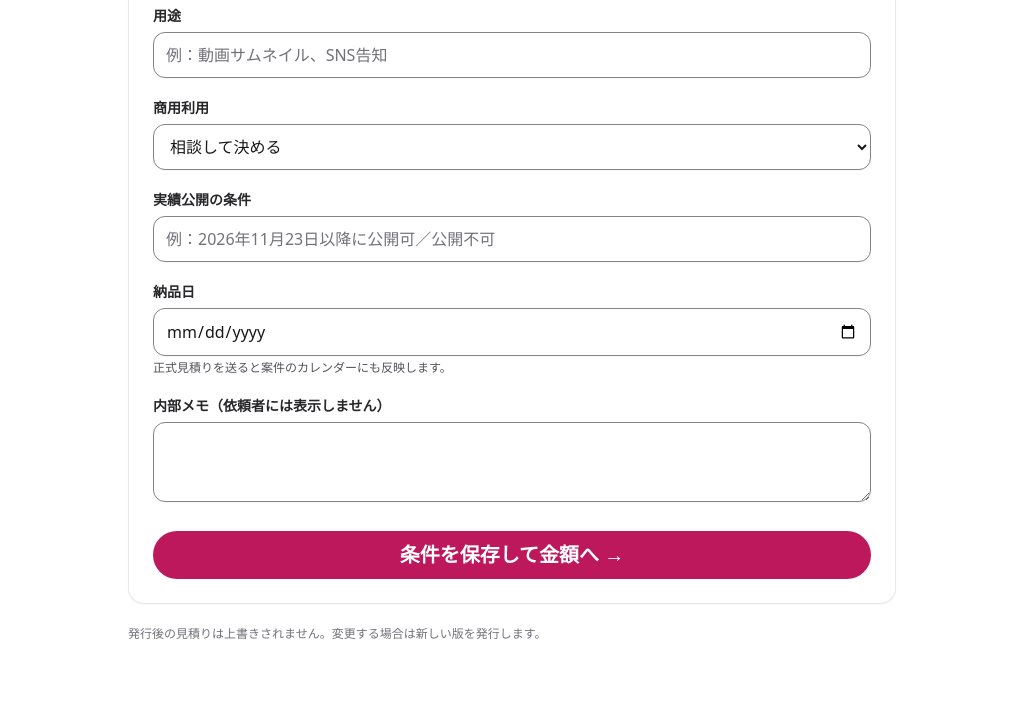
Test: EstimateJourney › keeps external requests on the conditions -> price -> review path without guessing their initial amount
(page scrolled)
Click the button "条件を保存して金額へ →" at (512, 555), box [153,531,871,579]
(page scrolled)
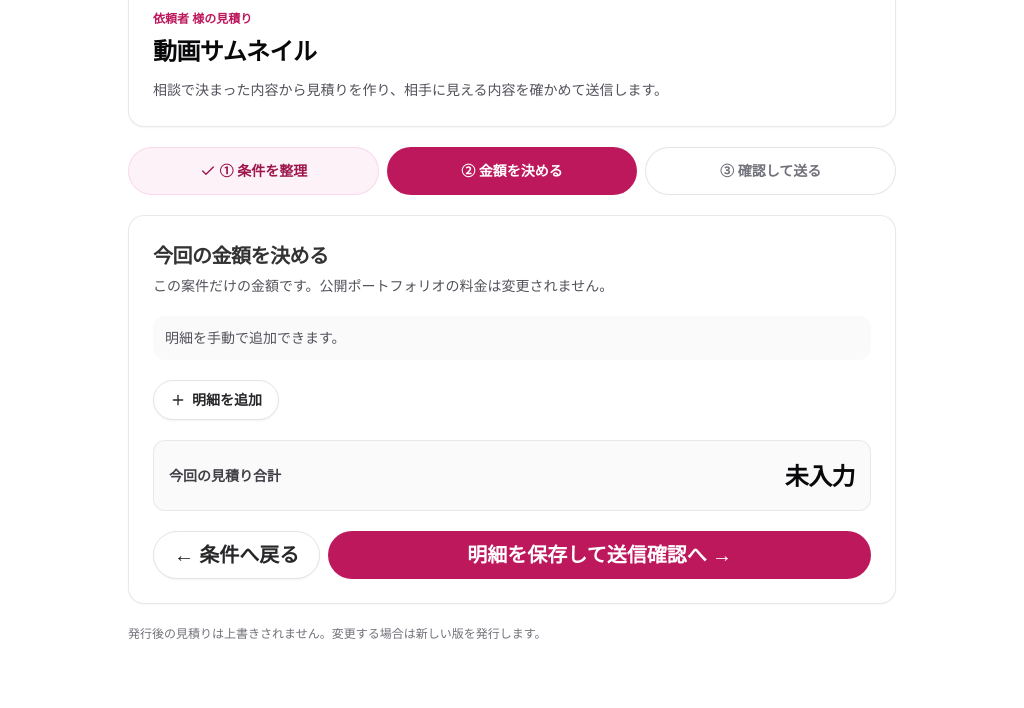
Expected: the heading "今回の金額を決める" is shown, [153,242,328,268]
Expected: the text "未入力" is shown, [785,456,855,495]
Click the button "明細を追加" at (216, 400), box [153,380,279,420]
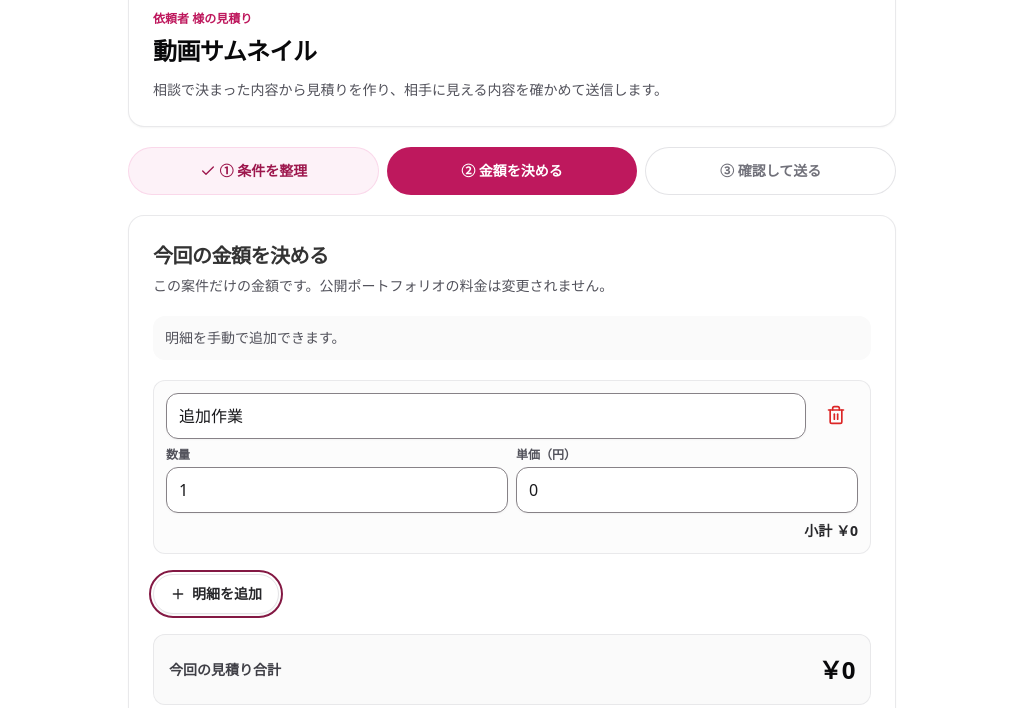
Replace the text in the number field labelled "単価（円）" with "3500" at (687, 490), box [516,467,858,513]
(page scrolled)
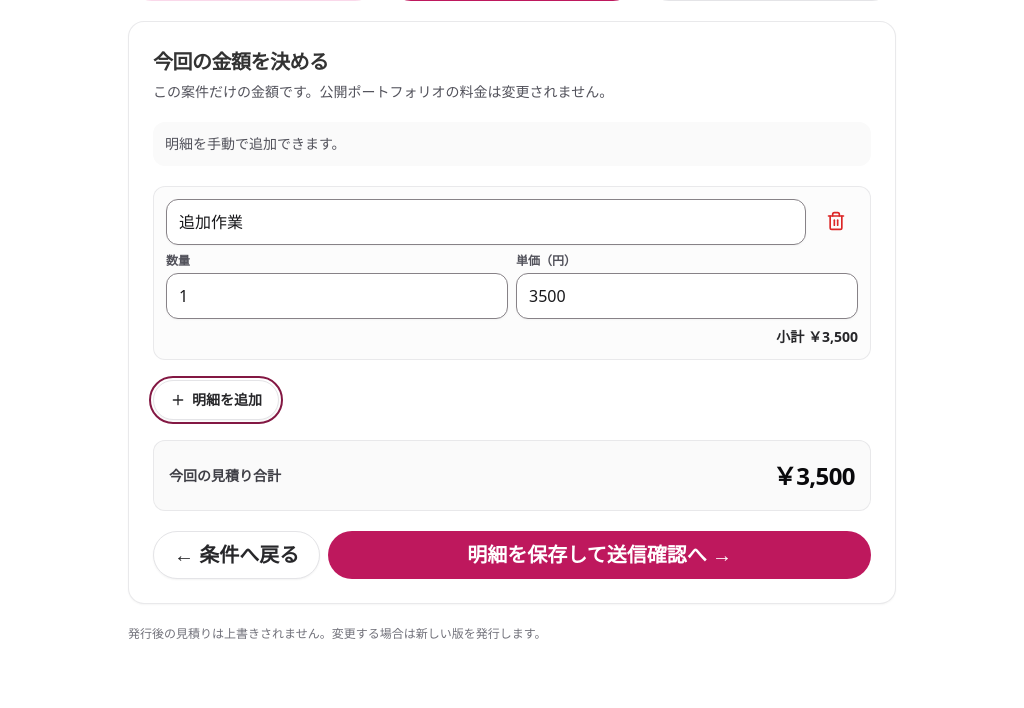
Click the button "明細を保存して送信確認へ →" at (600, 555), box [328,531,871,579]
(page scrolled)
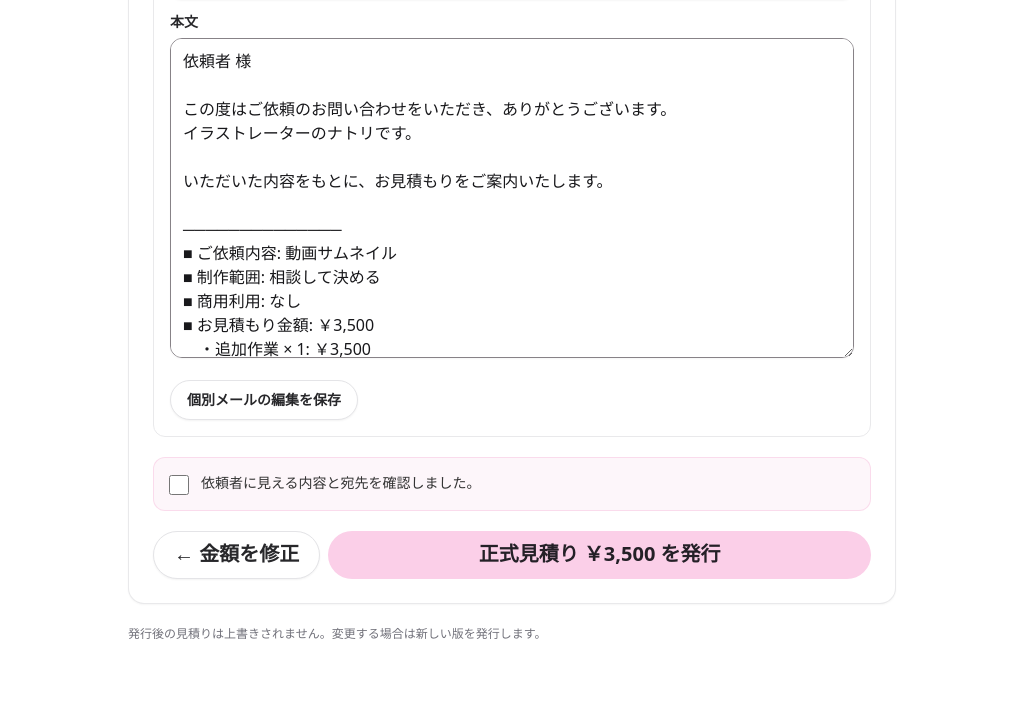
Expected: the button "正式見積り ￥3,500 を発行" is disabled, [328,530,871,578]
